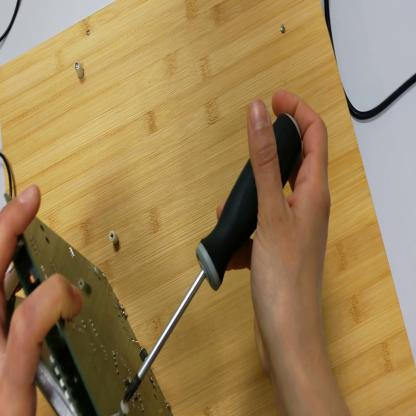hand: (222, 91, 333, 360), (2, 180, 80, 408)
low voltage board: (2, 194, 173, 416)
screwdriver-: (123, 112, 303, 404)
working area: (3, 3, 416, 415)
